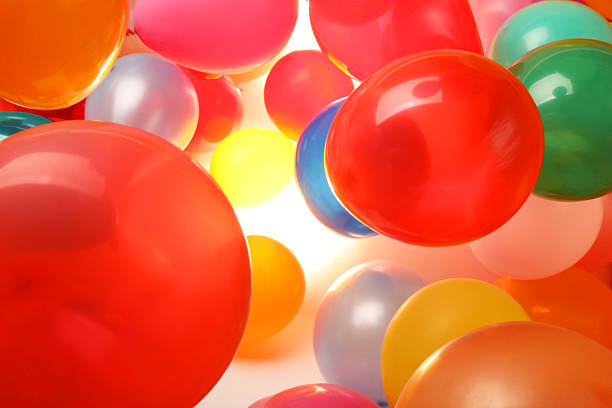Balloon: (1, 119, 251, 408), (325, 50, 545, 248), (1, 1, 130, 111), (131, 1, 299, 73), (212, 126, 295, 202)
